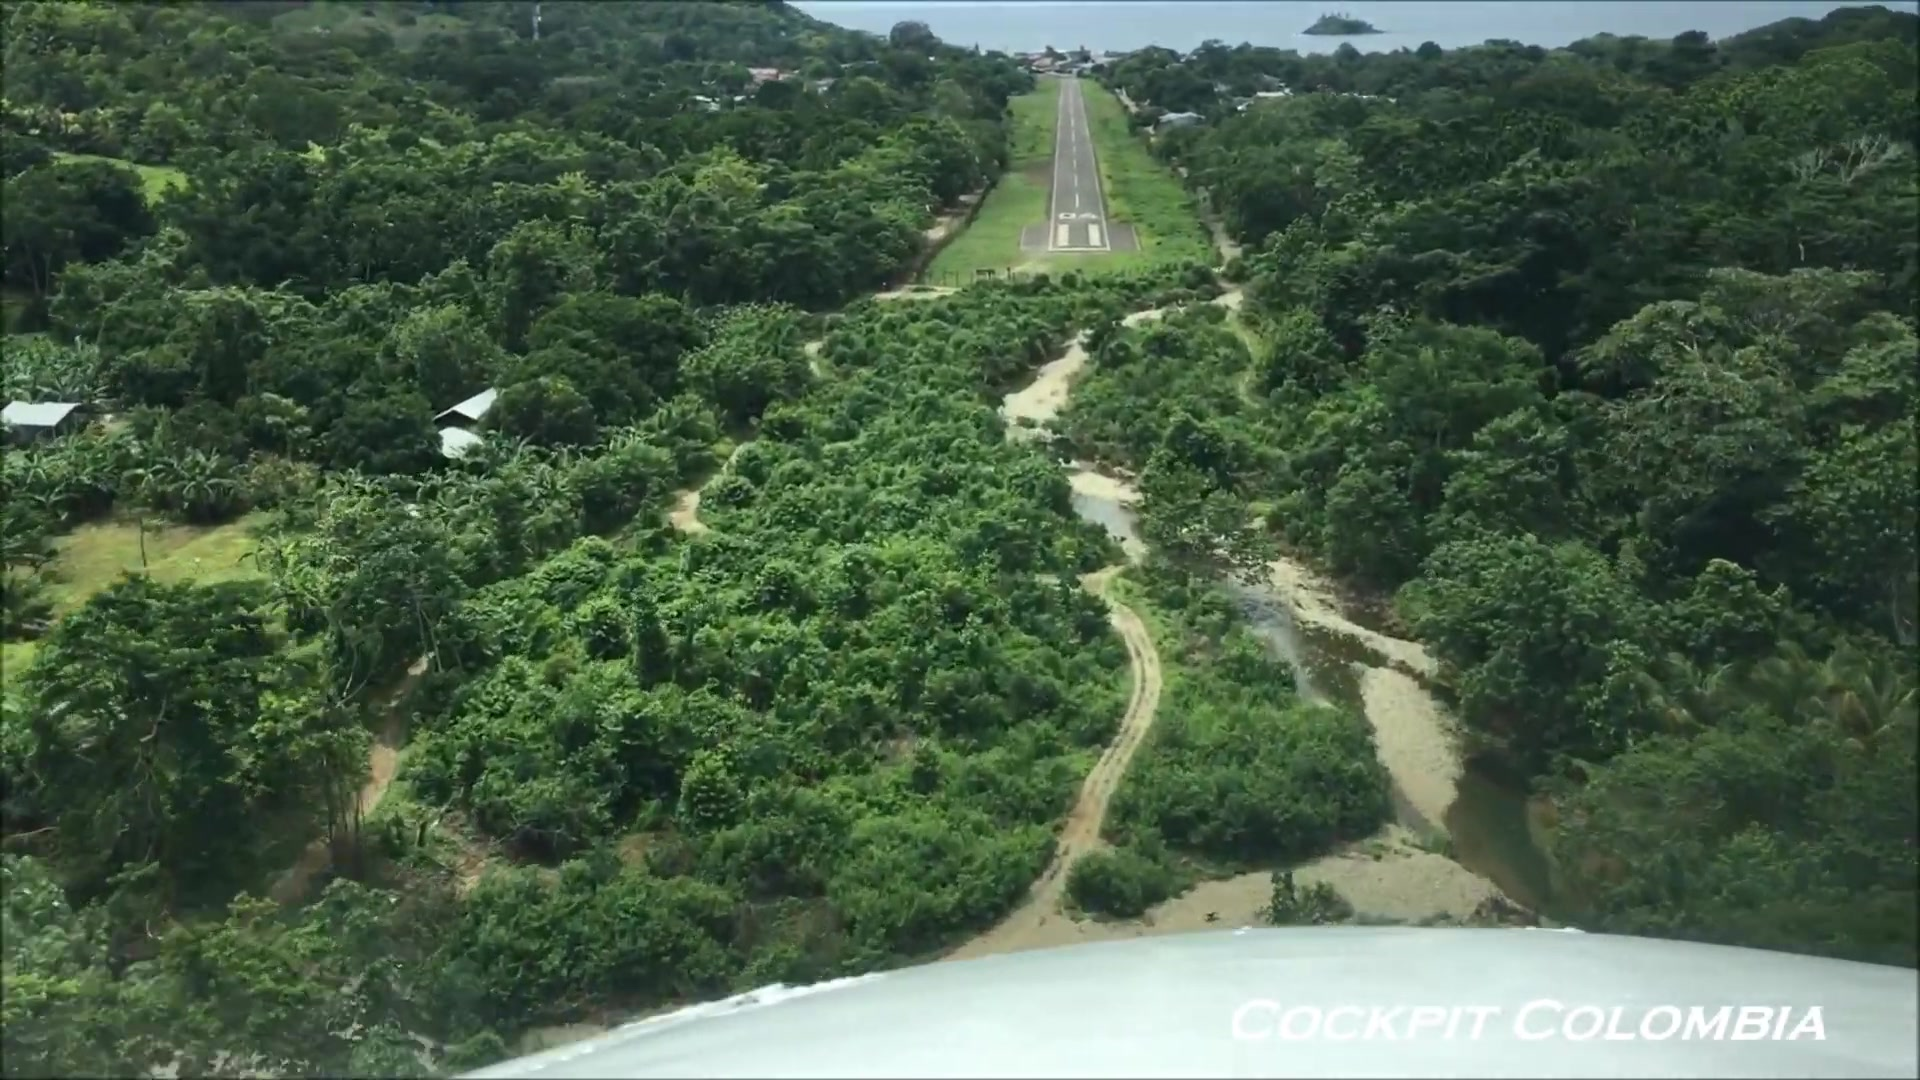entrance: (1054, 223, 1102, 248)
runway: (1048, 74, 1108, 255)
